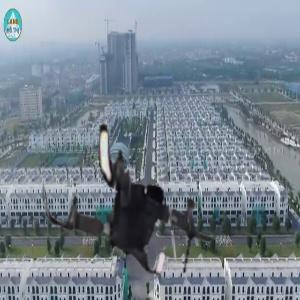drone: (39, 97, 236, 294)
